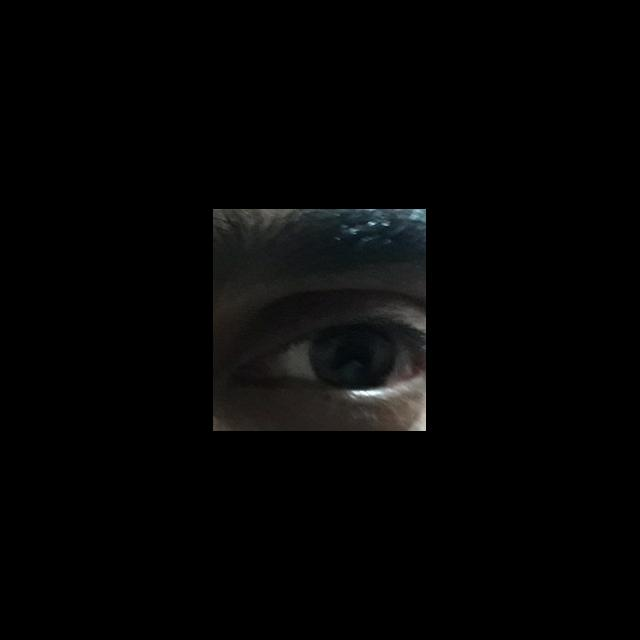eye: (278, 326, 419, 390)
iris: (310, 329, 398, 387)
